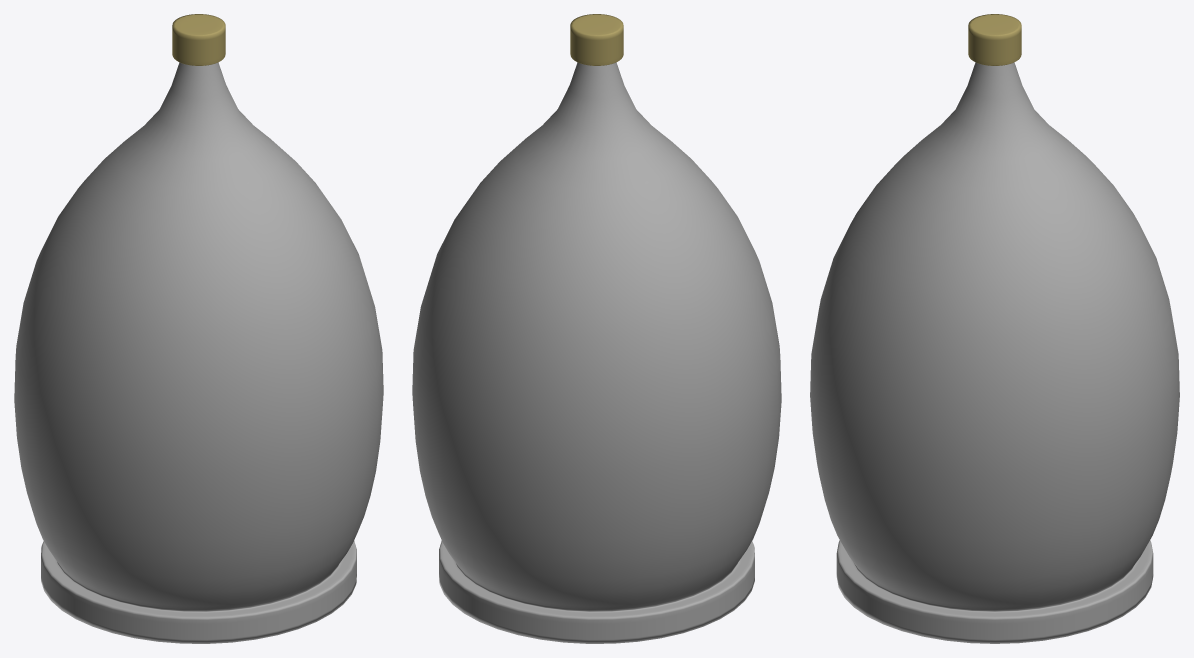
File: bottle.fbx
3 views of the same model, side by side, from view 1: azimuth 30°, elevation 25°; view 2: azimuth 150°, elevation 25°; view 3: azimuth 270°, elevation 25° (orthographic).
Visible parts, largest first — view 1: pCylinder3; view 2: pCylinder3; view 3: pCylinder3.
Boxes of the visible parts, x1,y1,x2,y2 form: pCylinder3: [14, 14, 383, 643]; pCylinder3: [412, 14, 781, 643]; pCylinder3: [810, 14, 1179, 643].
Size of the model in its own units: 7.05 by 11.66 by 7.05.
